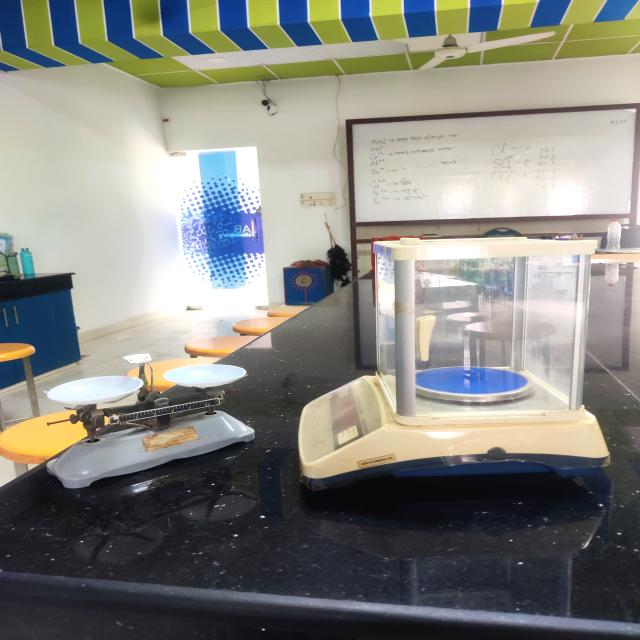Mechanical_Balance_Scale: (30, 342, 262, 516)
Precision_Weight_Scale: (279, 221, 640, 501)
